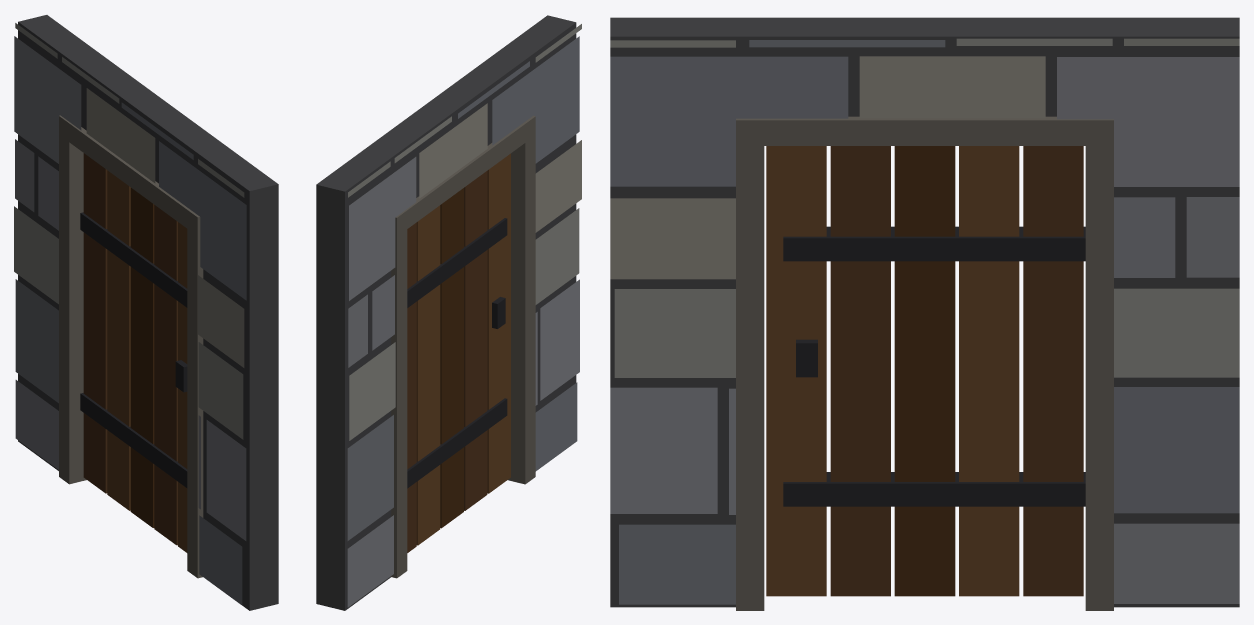
The model's file is wall-stone-door.glb.
3 renders of one model, left to right at view 1: azimuth 30°, elevation 25°; view 2: azimuth 150°, elevation 25°; view 3: azimuth 270°, elevation 25°, orthographic. The views are drawn at different scales.
Visible parts, largest first — view 1: wall-stone-door; view 2: wall-stone-door; view 3: wall-stone-door.
Part boxes in pixels (left/top/right/bottom): wall-stone-door: left=14, top=15, right=278, bottom=610; wall-stone-door: left=316, top=15, right=581, bottom=610; wall-stone-door: left=610, top=17, right=1239, bottom=610.
Bounding box in the file's own units: 0.1 × 1 × 1.
